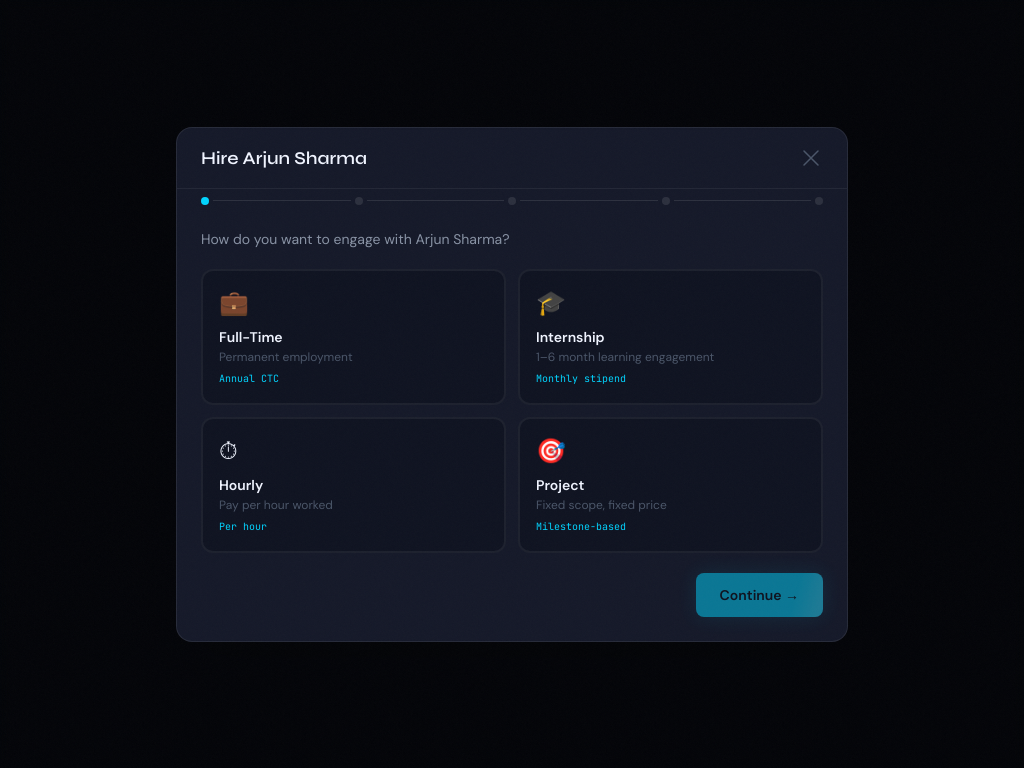
Scenario: HireModal — digital signing flow › company sign button is disabled when signature is empty
This screenshot has width=1024, height=768.
Click the radio button labelled "💼 Full-Time Permanent employment Annual CTC": (251, 336) [201, 268, 506, 404]
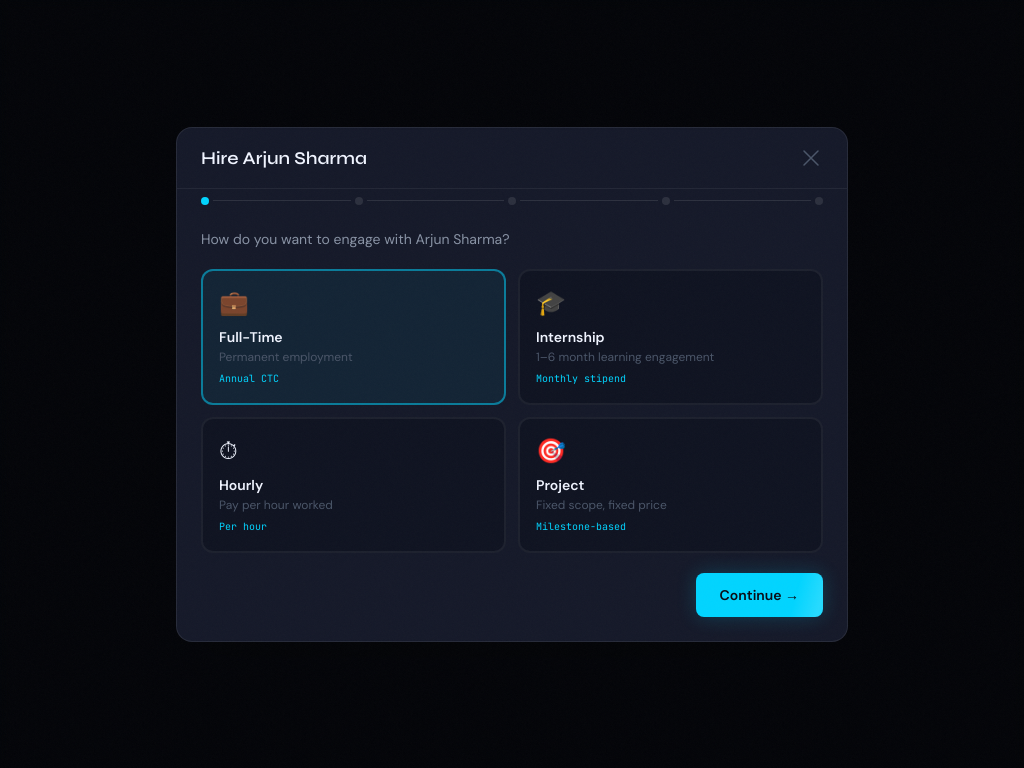
Click the button "Continue →": (759, 594) [696, 572, 823, 616]
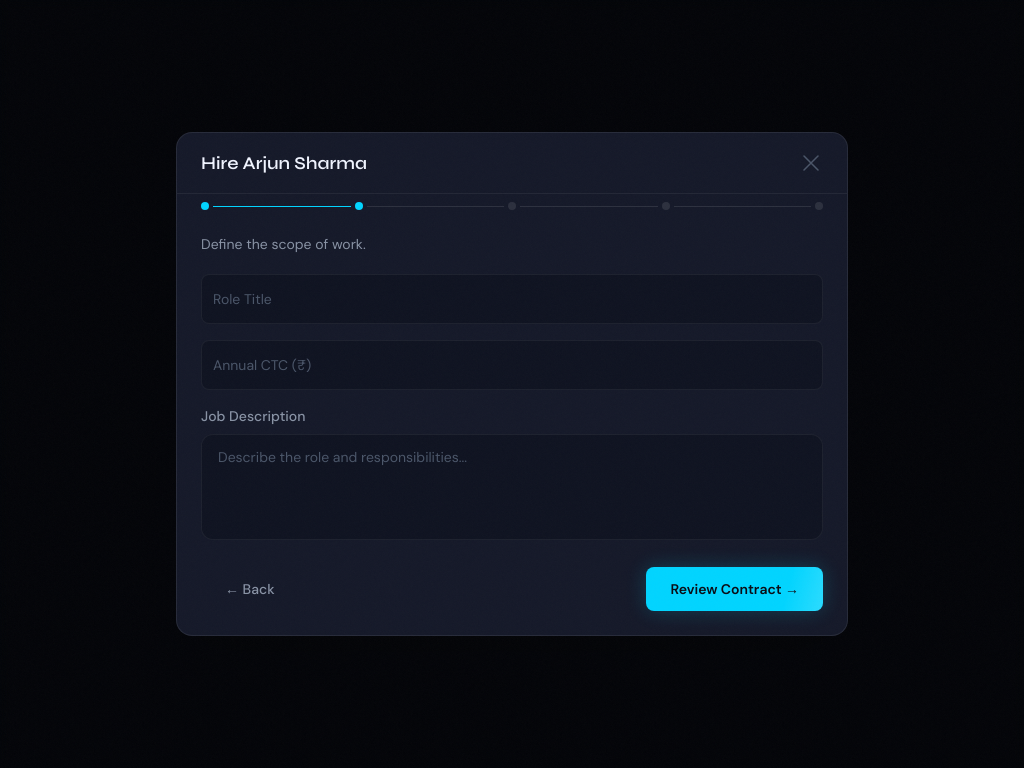
Click the button "Review Contract →": (735, 589) [646, 567, 823, 611]
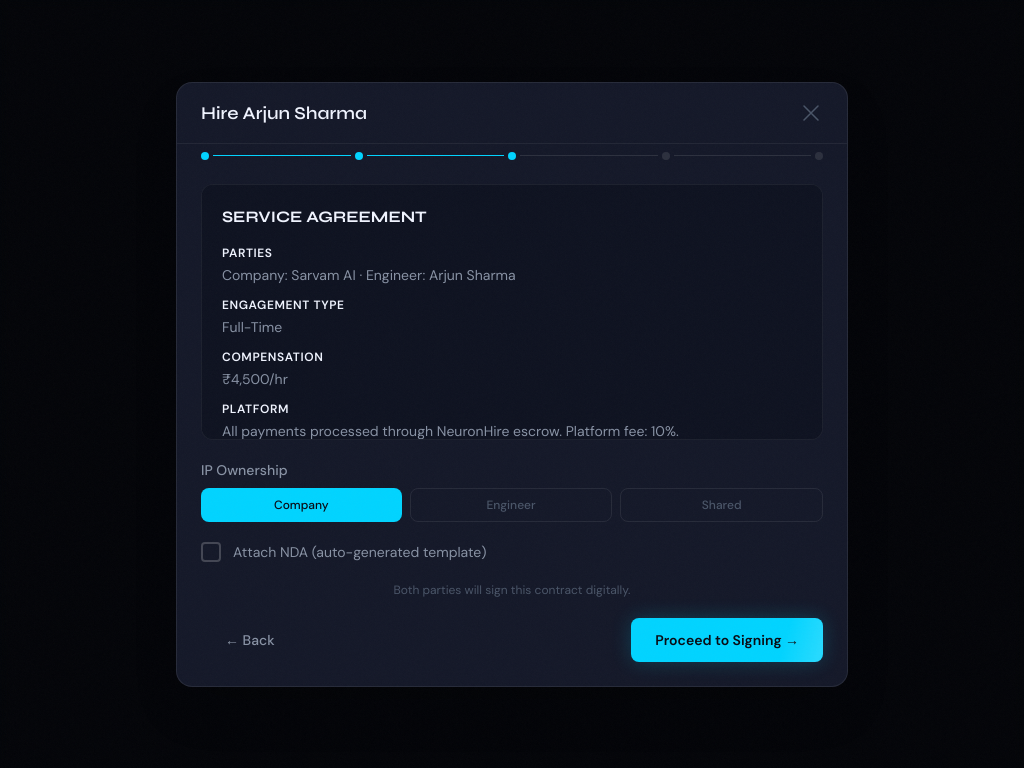
Click the button "Proceed to Signing →": (727, 640) [631, 618, 823, 662]
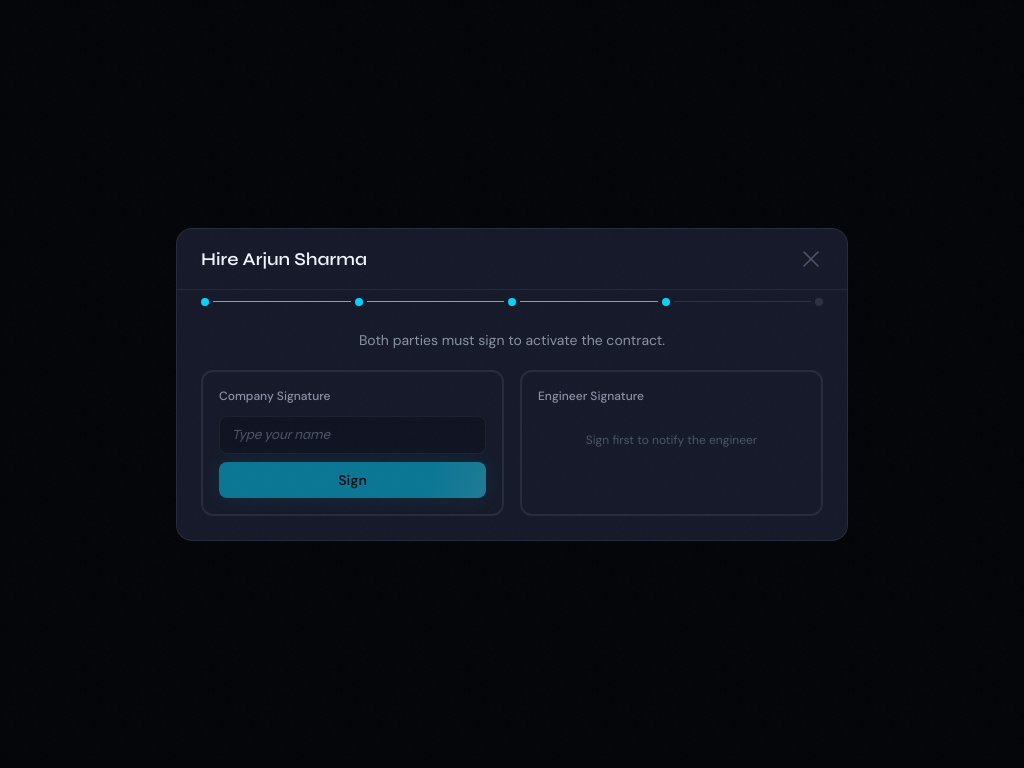
Check: the button with test id "company-sign-btn" is disabled, box [219, 462, 486, 498]
